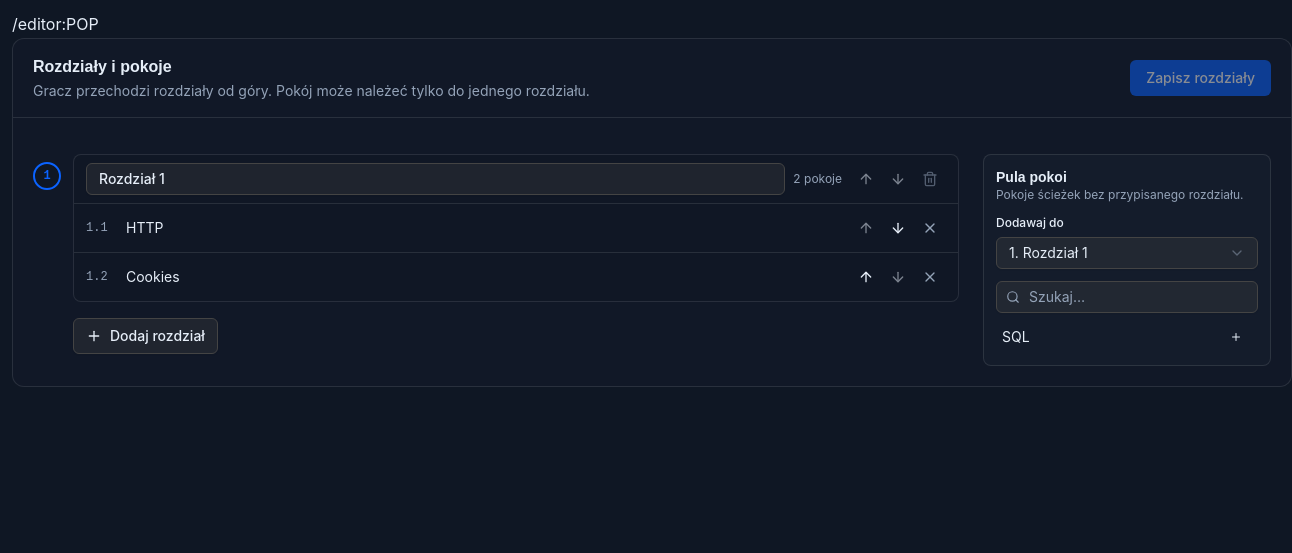
chapters editor › blocks edits and discard while a save is pending
Click the button "Dodaj rozdział" at (145, 336), box [73,318,218,354]
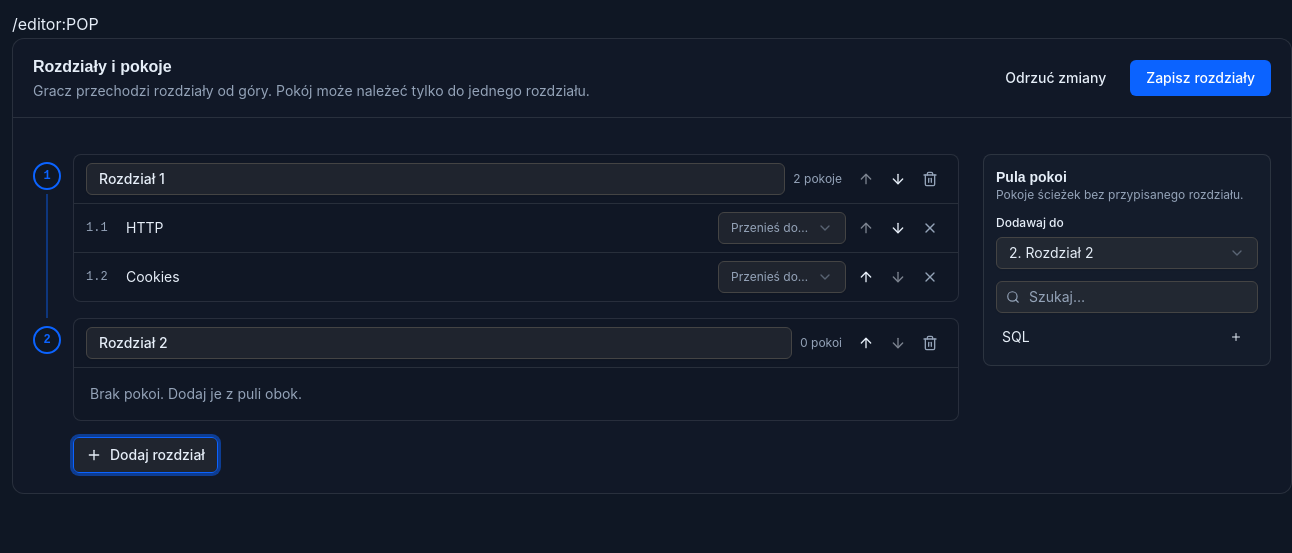
Click the button "Zapisz rozdziały" at (1201, 78), box [1130,60,1271,96]
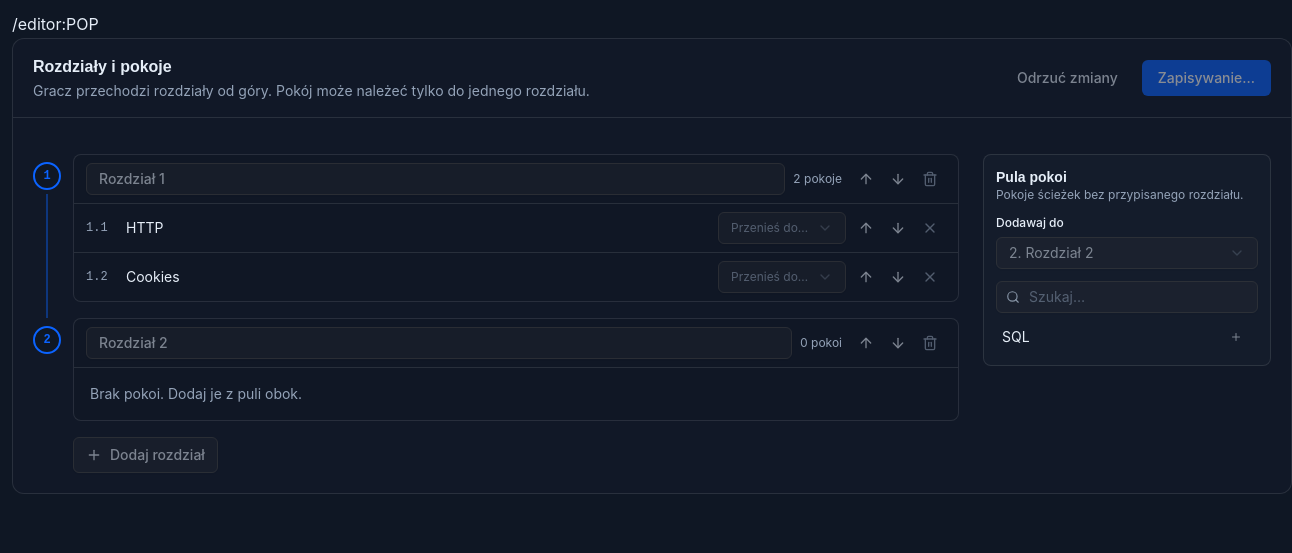
Result: the button named "Usuń rozdział 1" is disabled at [914,163,946,195]
Result: the button "Odrzuć zmiany" is disabled at [1001,60,1134,96]
Result: the dropdown labelled "Przenieś do…" in the row of "HTTP" is disabled at [718,212,846,244]
Type "utracona edycja" into the 1st field named "Nazwa rozdziału 1" at (436, 179), box [86,163,785,195]
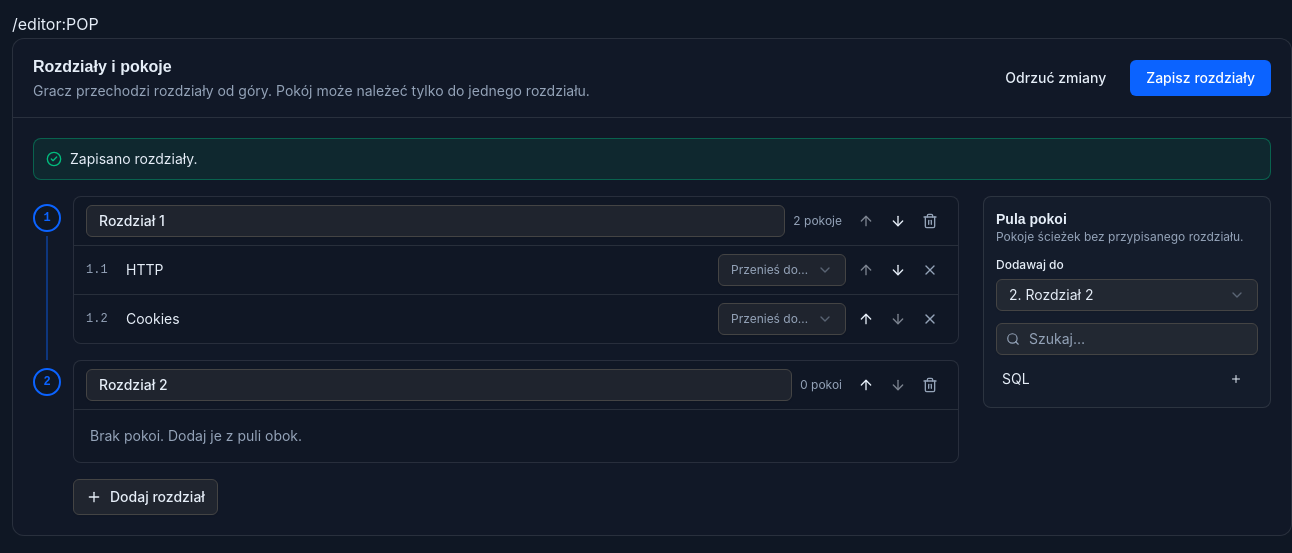
Expected: the 1st field named "Nazwa rozdziału 1" holds "Rozdział 1", [86,205,785,237]
Result: the text "Zapisano rozdziały." is shown at [70,149,198,169]
